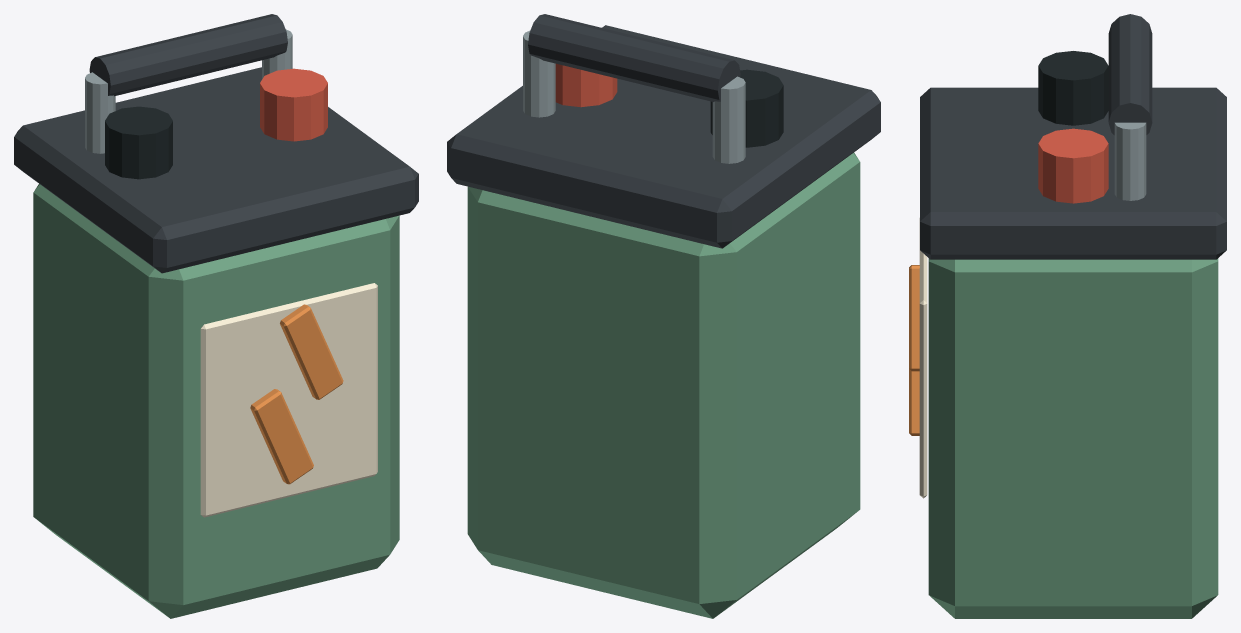
Rendered from WorkshopBattery.fbx.
The picture shows the model from 3 angles, left to right: view 1: azimuth 30°, elevation 25°; view 2: azimuth 150°, elevation 25°; view 3: azimuth 270°, elevation 25°; orthographic projection. The views are drawn at different scales.
Parts seen in each view (by area): view 1: Battery case, Battery top, Label, Carry handle, Terminal, Terminal.001, Lightning lower, Lightning upper, Handle support, Handle support.001; view 2: Battery case, Battery top, Carry handle, Terminal, Handle support, Terminal.001, Handle support.001; view 3: Battery case, Battery top, Terminal, Terminal.001, Carry handle, Handle support.001, Label, Lightning upper, Lightning lower.
Boxes of the visible parts, <box> form: Battery case: <box>33,184,399,618</box>; Battery top: <box>14,67,418,273</box>; Label: <box>200,283,377,517</box>; Carry handle: <box>89,14,287,96</box>; Terminal: <box>105,106,172,179</box>; Terminal.001: <box>260,68,327,141</box>; Lightning lower: <box>250,389,313,484</box>; Lightning upper: <box>280,304,343,399</box>; Handle support: <box>85,72,115,153</box>; Handle support.001: <box>262,29,292,79</box>; Battery case: <box>467,152,860,618</box>; Battery top: <box>447,25,880,248</box>; Carry handle: <box>528,14,740,101</box>; Terminal: <box>710,69,783,147</box>; Handle support: <box>712,76,745,163</box>; Terminal.001: <box>555,63,617,107</box>; Handle support.001: <box>523,30,555,117</box>; Battery case: <box>928,258,1218,618</box>; Battery top: <box>920,87,1226,259</box>; Terminal: <box>1038,51,1108,125</box>; Terminal.001: <box>1038,128,1108,203</box>; Carry handle: <box>1108,14,1152,135</box>; Handle support.001: <box>1114,122,1146,200</box>; Label: <box>919,218,927,498</box>; Lightning upper: <box>909,265,919,371</box>; Lightning lower: <box>909,369,919,435</box>.
Size of the model in its own units: 0.36 by 0.64 by 0.3625.
